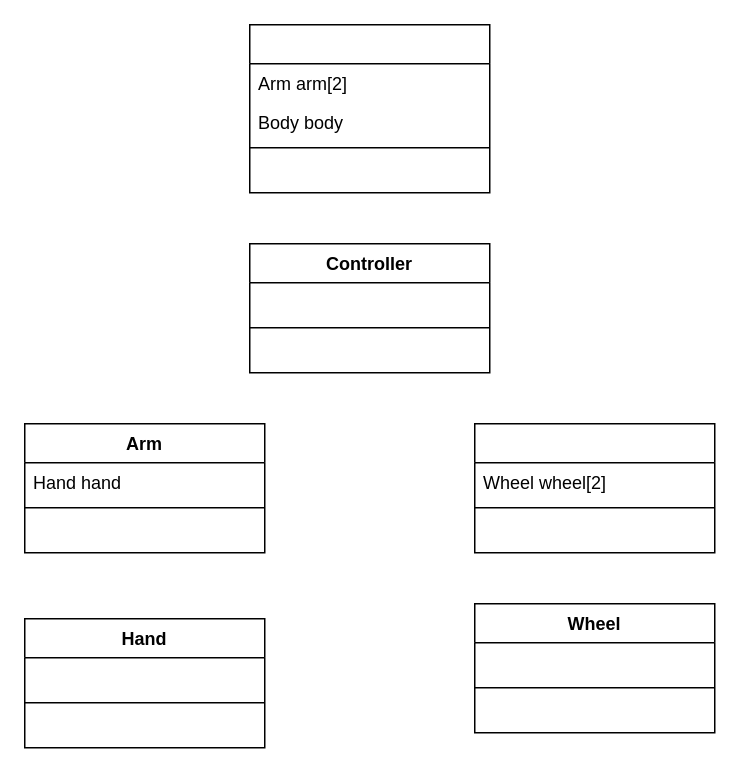
Some shapes in this 740 by 773 pixel diagram are drawn without their labels. Here are the shapes that lost their labels. From the top down, the box of each, then its label:
(248, 23, 490, 193): Robot
(473, 422, 715, 553): Body
